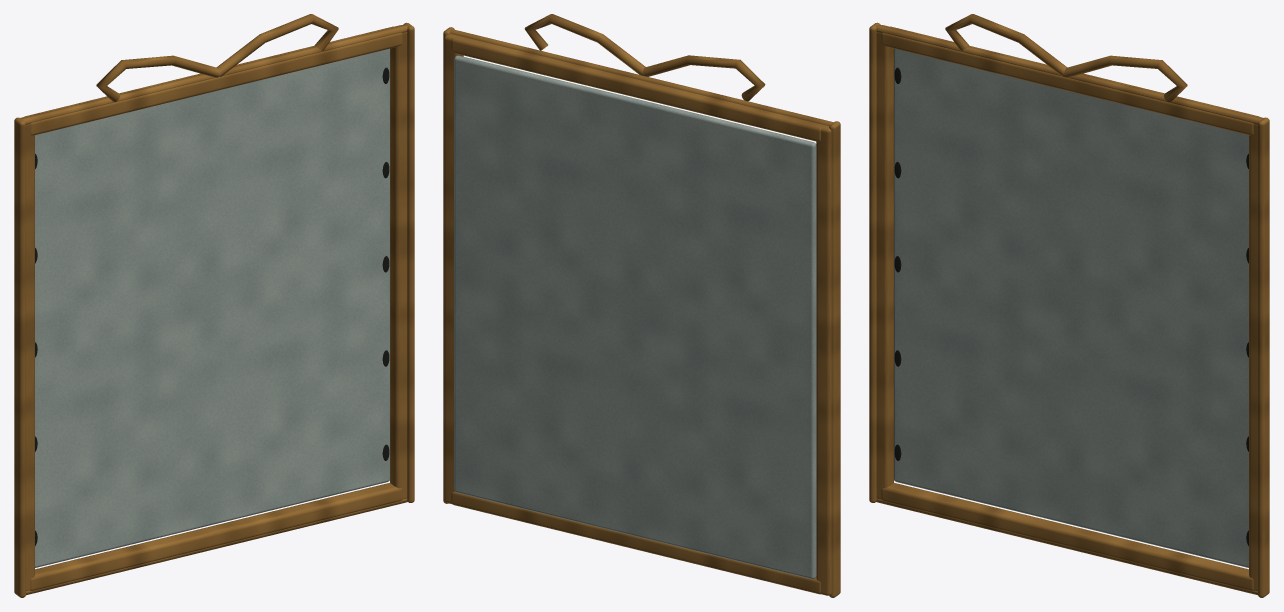
File: Mirror.fbx
3 renders of one model, left to right at view 1: azimuth 30°, elevation 25°; view 2: azimuth 150°, elevation 25°; view 3: azimuth 330°, elevation 25°, orthographic.
Parts seen in each view (by area): view 1: Mirror_MirrorSilver, Mirror_Brass, Mirror_Iron; view 2: Mirror_MirrorSilver, Mirror_Brass; view 3: Mirror_MirrorSilver, Mirror_Brass, Mirror_Iron.
Part boxes in pixels (x1,y1,x2,y2): Mirror_MirrorSilver: (35, 48, 389, 567); Mirror_Brass: (14, 14, 414, 597); Mirror_Iron: (35, 67, 389, 545); Mirror_MirrorSilver: (454, 55, 816, 579); Mirror_Brass: (443, 14, 840, 597); Mirror_MirrorSilver: (894, 48, 1248, 567); Mirror_Brass: (869, 14, 1269, 597); Mirror_Iron: (894, 67, 1248, 545).
Size of the model in its own units: 105 by 131 by 6.6.
